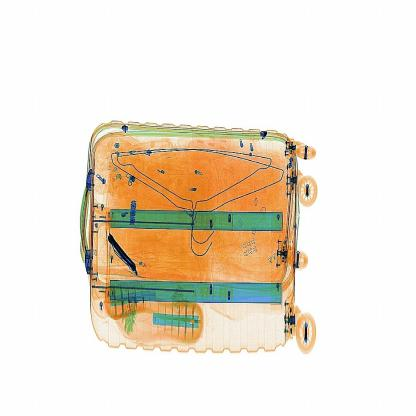knife: (101, 226, 150, 286)
